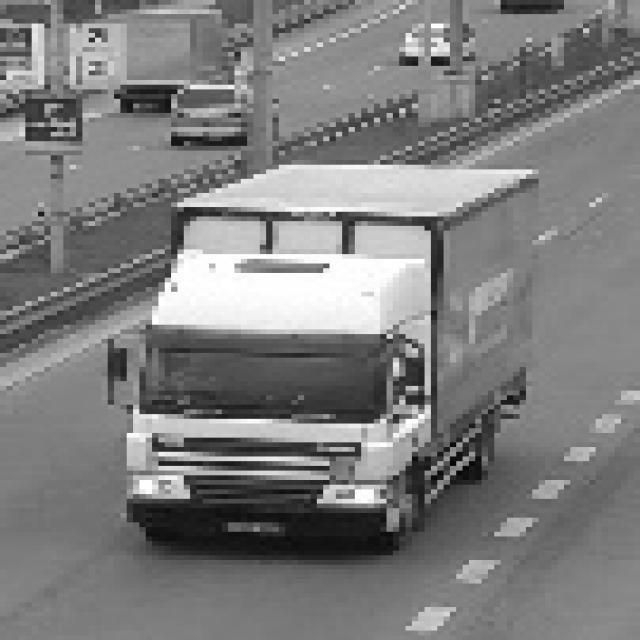truck: (103, 217, 453, 552)
